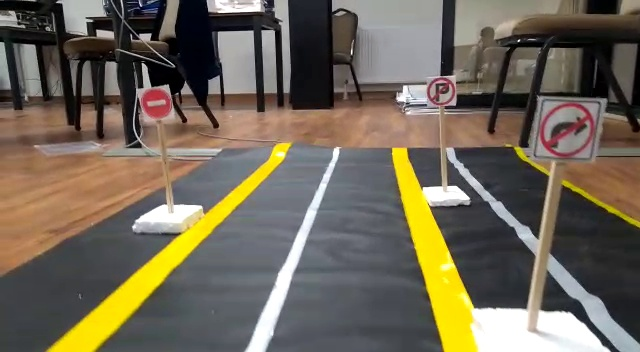girisi_olmayan_yol: (141, 85, 174, 122)
park_yapilmaz: (427, 76, 458, 109)
saga_donulmez: (535, 95, 596, 162)
